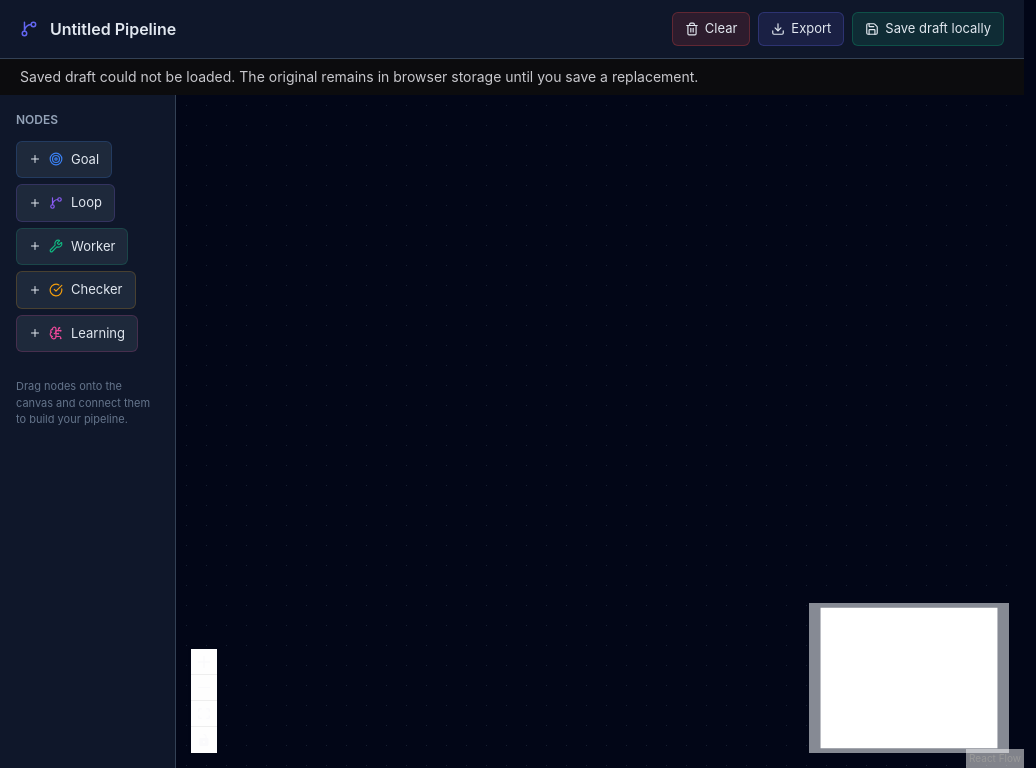
Test: PipelineBuilderPage › keeps corrupt saved data and exposes a storage failure instead of claiming success
Expected: the message shows "could not be loaded", [20,68,698,84]
Click the button "Save draft locally": click(928, 29) [852,12,1004,46]
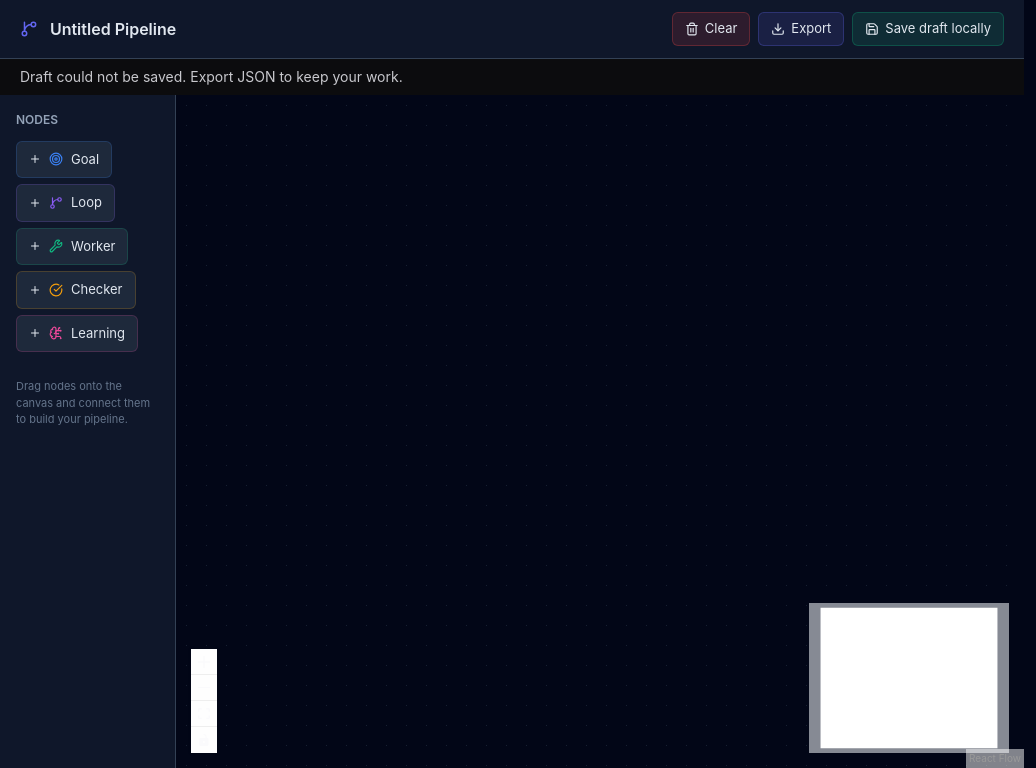
Result: the message shows "could not be saved" at [20,68,403,84]
